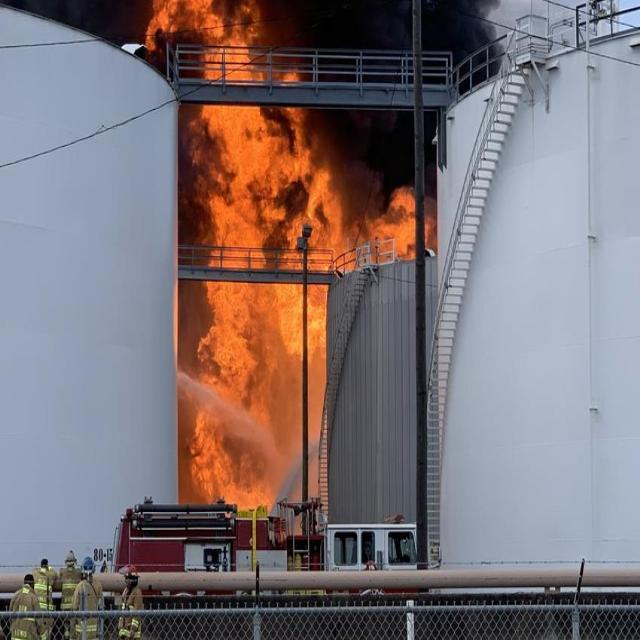Fire: (190, 99, 325, 521)
